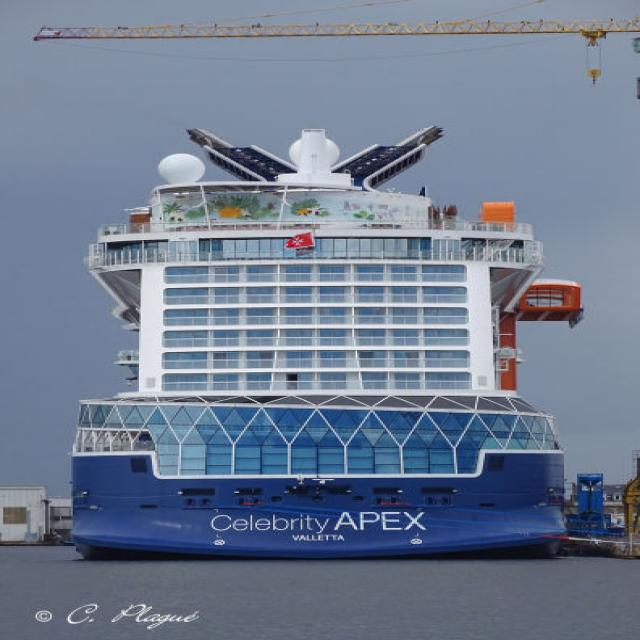cruises: (58, 120, 589, 567)
